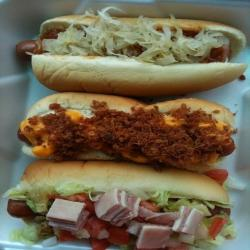hotdog: (11, 161, 246, 250), (27, 14, 245, 97), (16, 90, 234, 170)
